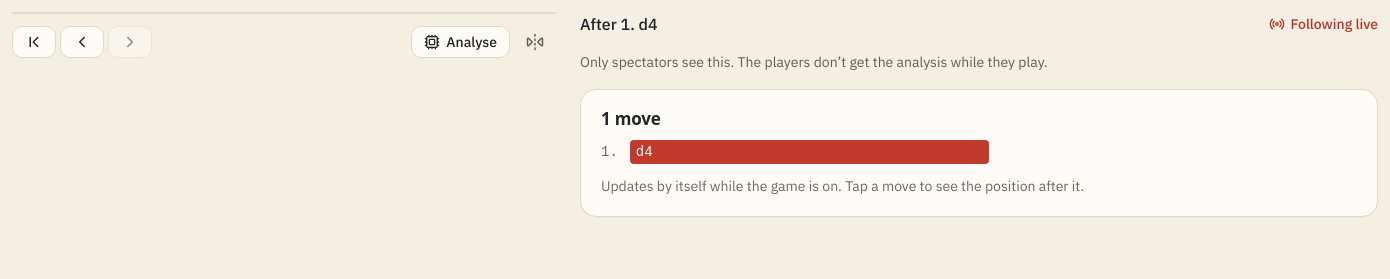
Scenario: watching a live game › says so when the engine can’t run here
This screenshot has width=1390, height=279.
Click the button "Analyse".
click(461, 42)  # box [411, 26, 510, 58]
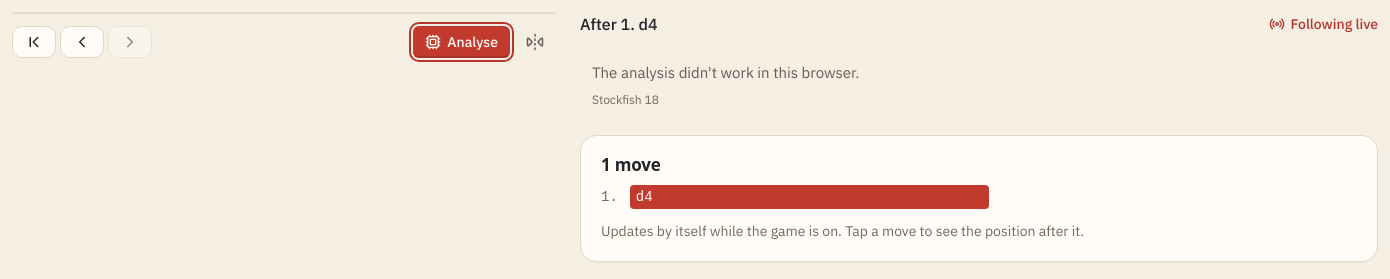
Expected: the text "The analysis didn't work in this browser." is shown, [592, 63, 859, 82]
